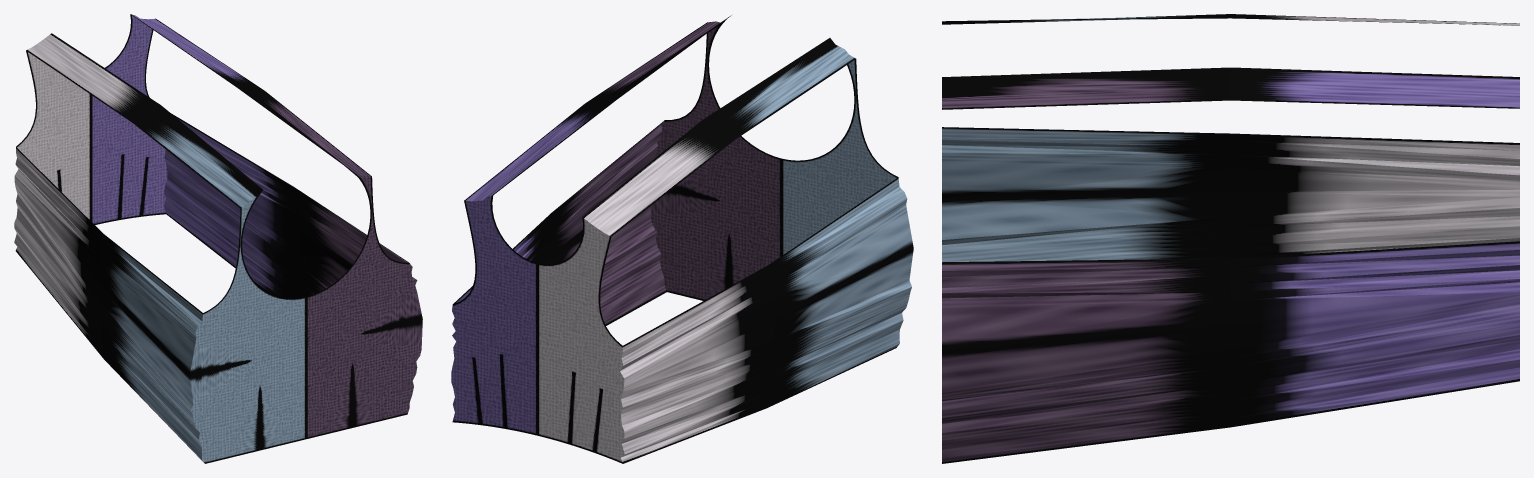
The model's file is tank_tight10_boxmesh.obj.
3 views of the same model, side by side, from view 1: azimuth 30°, elevation 25°; view 2: azimuth 150°, elevation 25°; view 3: azimuth 270°, elevation 25° (orthographic). The views are drawn at different scales.
Size of the model in its own units: 34.38 by 37.25 by 55.
Materials: 1 (1 with a texture image).
